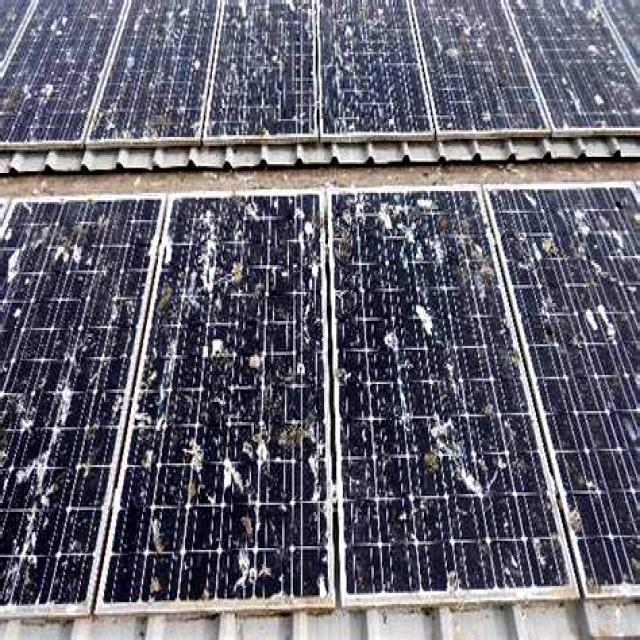soiled: (1, 198, 640, 606), (1, 1, 638, 146)
